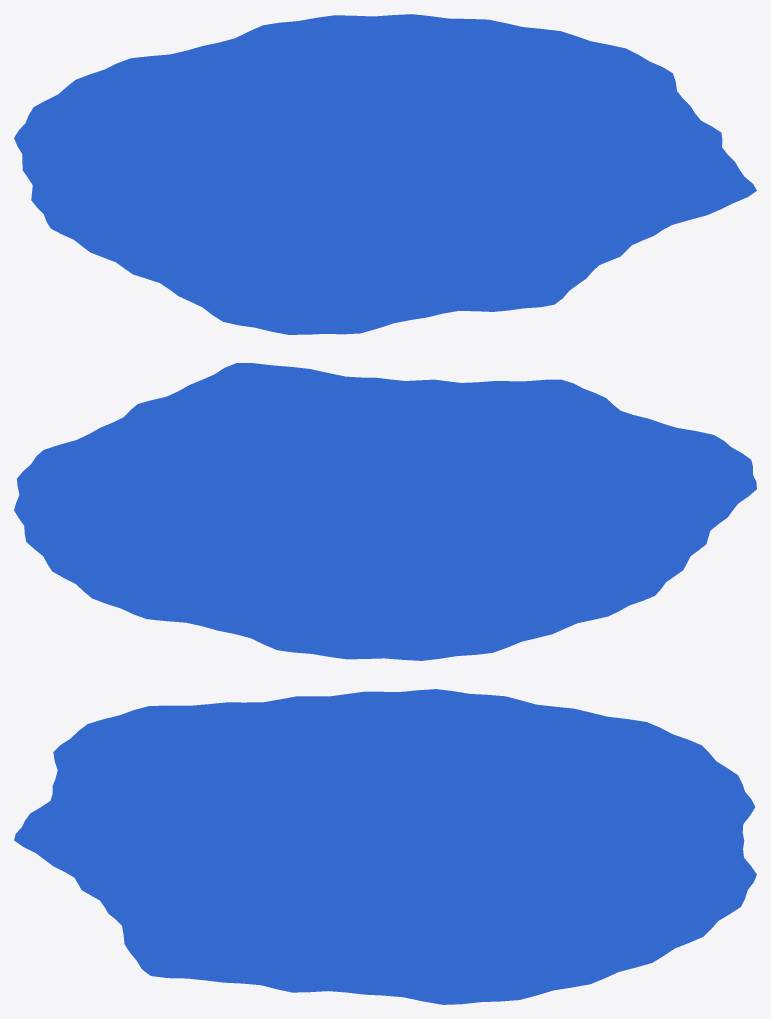
The model's file is WaterPuddleFlat.fbx.
The picture shows the model from 3 angles, top to bottom: view 1: azimuth 30°, elevation 25°; view 2: azimuth 150°, elevation 25°; view 3: azimuth 270°, elevation 25°; orthographic projection. The views are drawn at different scales.
Parts seen in each view (by area): view 1: WaterPuddle; view 2: WaterPuddle; view 3: WaterPuddle.
Boxes of the visible parts, x1,y1,x2,y2 form: WaterPuddle: (14,14,756,334); WaterPuddle: (14,363,756,660); WaterPuddle: (14,689,756,1004).
Bounding box in the file's own units: 649 × 0.8344 × 646.
